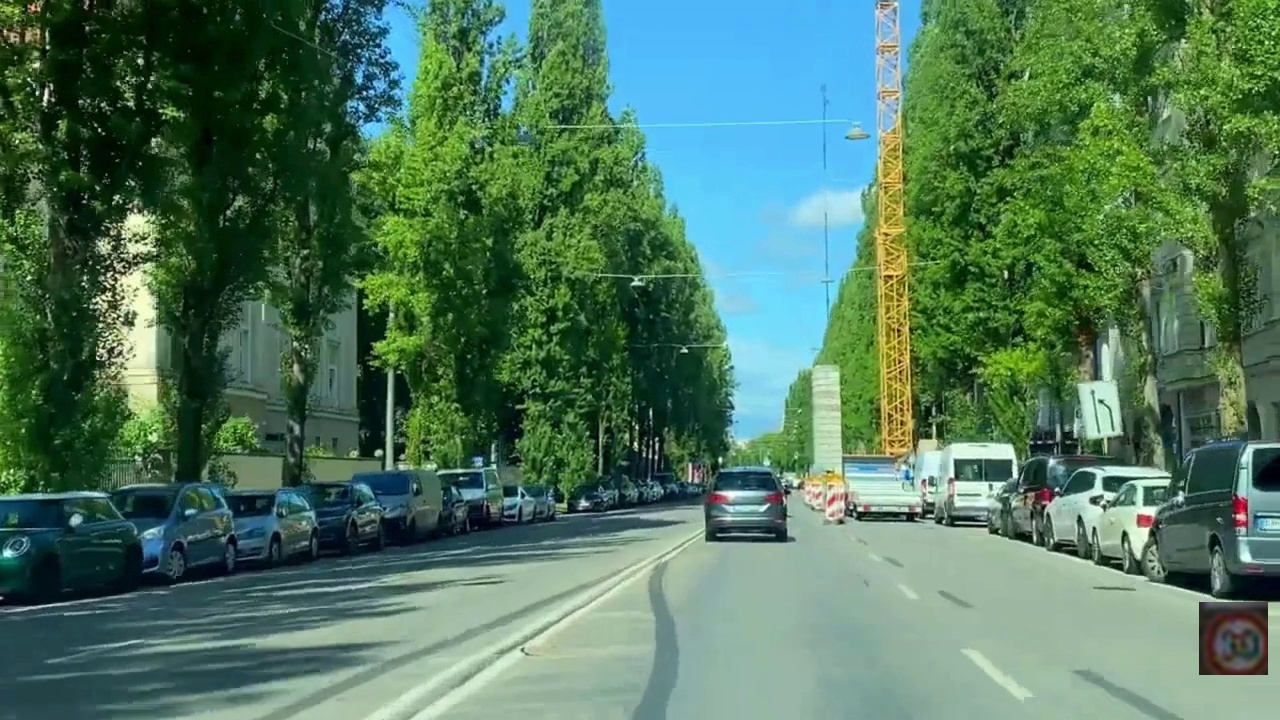Speed 30: (1199, 602, 1268, 675)
